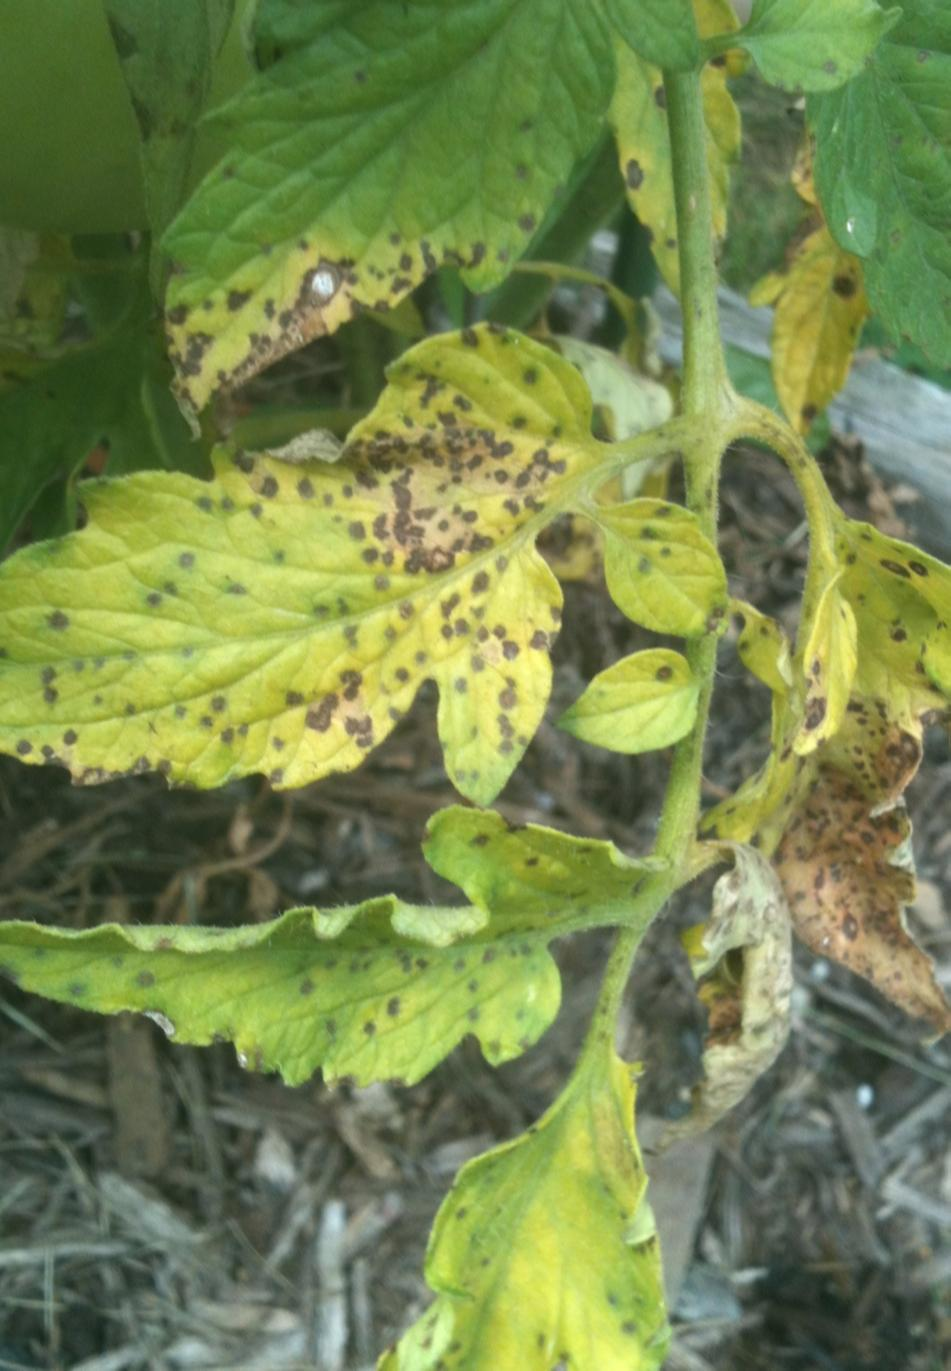Tomato Septoria leaf spot: (0, 331, 621, 827), (0, 769, 698, 1089), (146, 0, 734, 378), (774, 469, 951, 1102), (385, 1045, 701, 1371)
